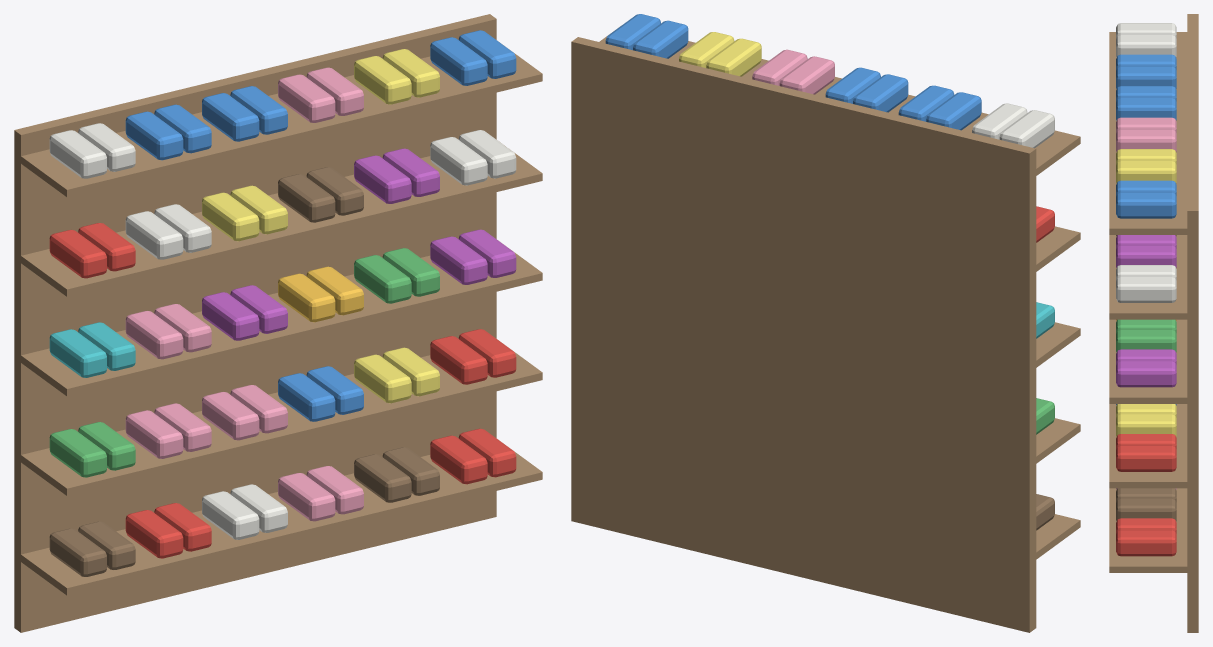
The model's file is shoe_wall.glb.
3 views of the same model, side by side, from view 1: azimuth 30°, elevation 25°; view 2: azimuth 150°, elevation 25°; view 3: azimuth 270°, elevation 25° (orthographic). The views are drawn at different scales.
Visible parts, largest first — view 1: shoe_wall; view 2: shoe_wall; view 3: shoe_wall.
Boxes of the visible parts, left/top/right/bottom form: shoe_wall: left=14, top=14, right=542, bottom=632; shoe_wall: left=571, top=14, right=1080, bottom=632; shoe_wall: left=1109, top=14, right=1198, bottom=632.
Size of the model in its own units: 2 by 2.01 by 0.385.
